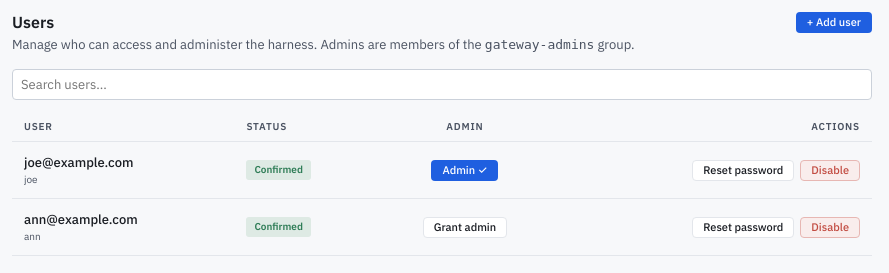
Scenario: UsersPanel › filters the directory by the search box
Expected: the text "joe@example.com" is shown, [24,154,133,171]
Type "ann" into the search field labelled "Search users" at (442, 84), box [12,69,872,100]
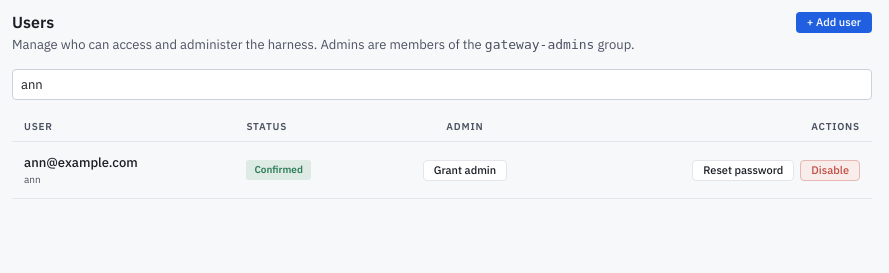
Expected: the text "ann@example.com" is shown, [24,154,138,171]
Now the text "joe@example.com" is gone
